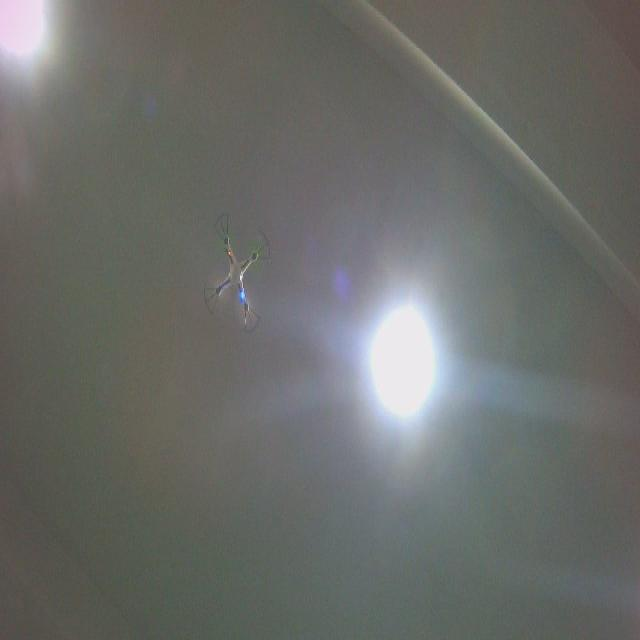drone: (199, 208, 273, 337)
